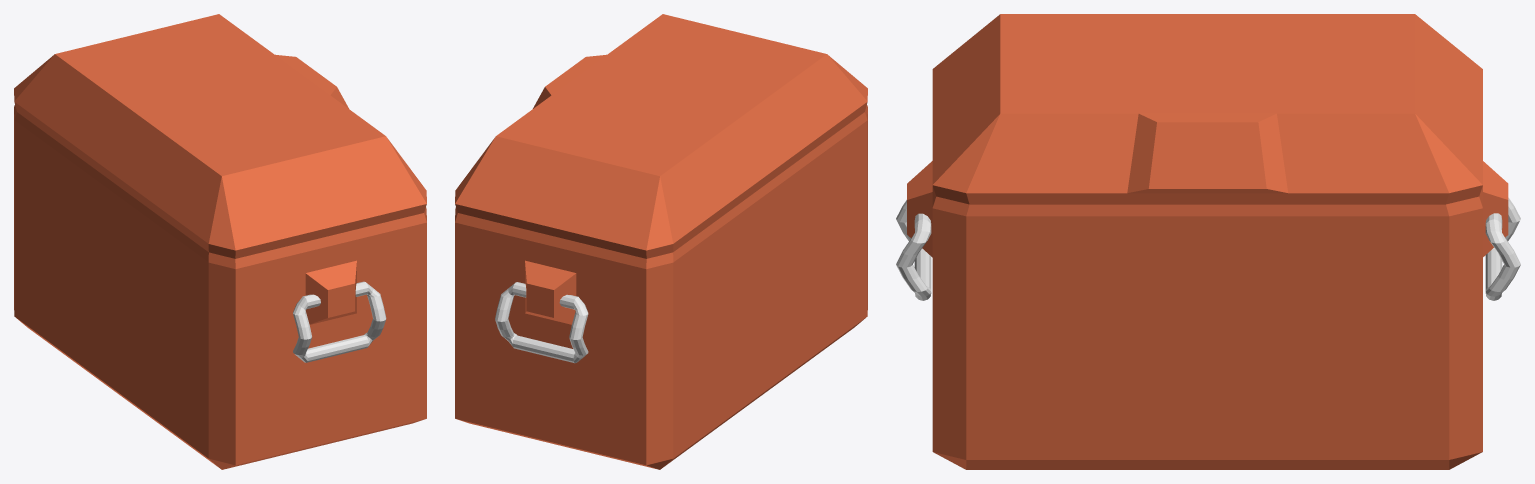
File: koelbox.fbx
3 renders of one model, left to right at view 1: azimuth 30°, elevation 25°; view 2: azimuth 150°, elevation 25°; view 3: azimuth 270°, elevation 25°, orthographic. The views are drawn at different scales.
Visible parts, largest first — view 1: box, handle; view 2: box, handle; view 3: box, handle.
Boxes of the visible parts, x1,y1,x2,y2 form: box: [14, 14, 426, 469]; handle: [293, 281, 386, 362]; box: [455, 14, 867, 469]; handle: [495, 282, 588, 363]; box: [907, 14, 1508, 469]; handle: [896, 197, 1520, 300].
Bounding box in the file's own units: 109 × 129 × 210.
